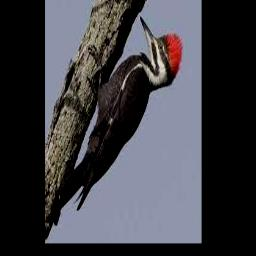Woodpecker: (46, 16, 183, 225)
